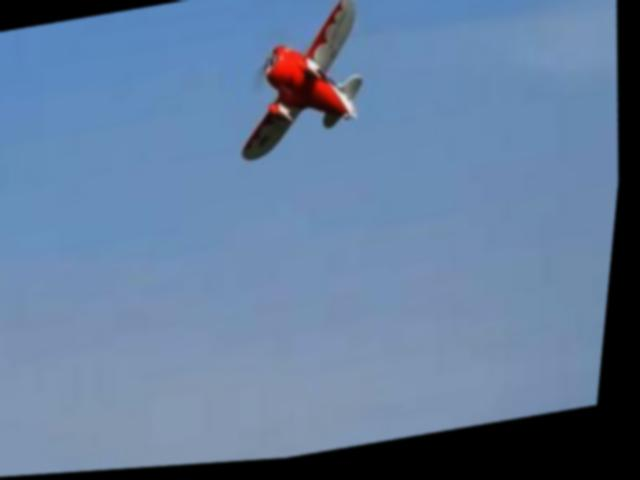uav: (225, 0, 389, 174)
